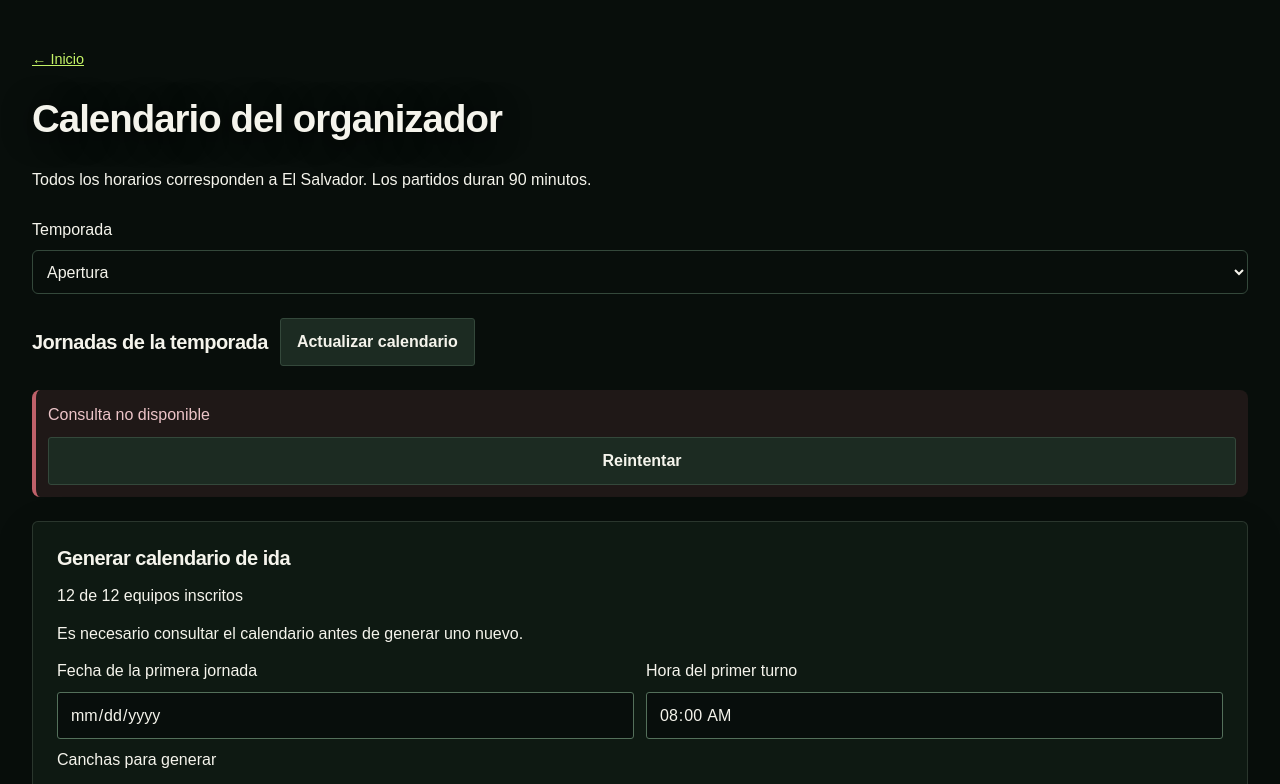
it: FE-3.1 calendario › no permite publicar jornadas vacías y no muestra errores de lectura como vacíos
The width and height of the screenshot is (1280, 784).
Check: the text "Consulta no disponible" is shown, box [48,406,210,423]
What coordinates should you click on to do the following:
click the button "Reintentar"
I would click on:
 (642, 461)
Its box is [48,437,1236,485].
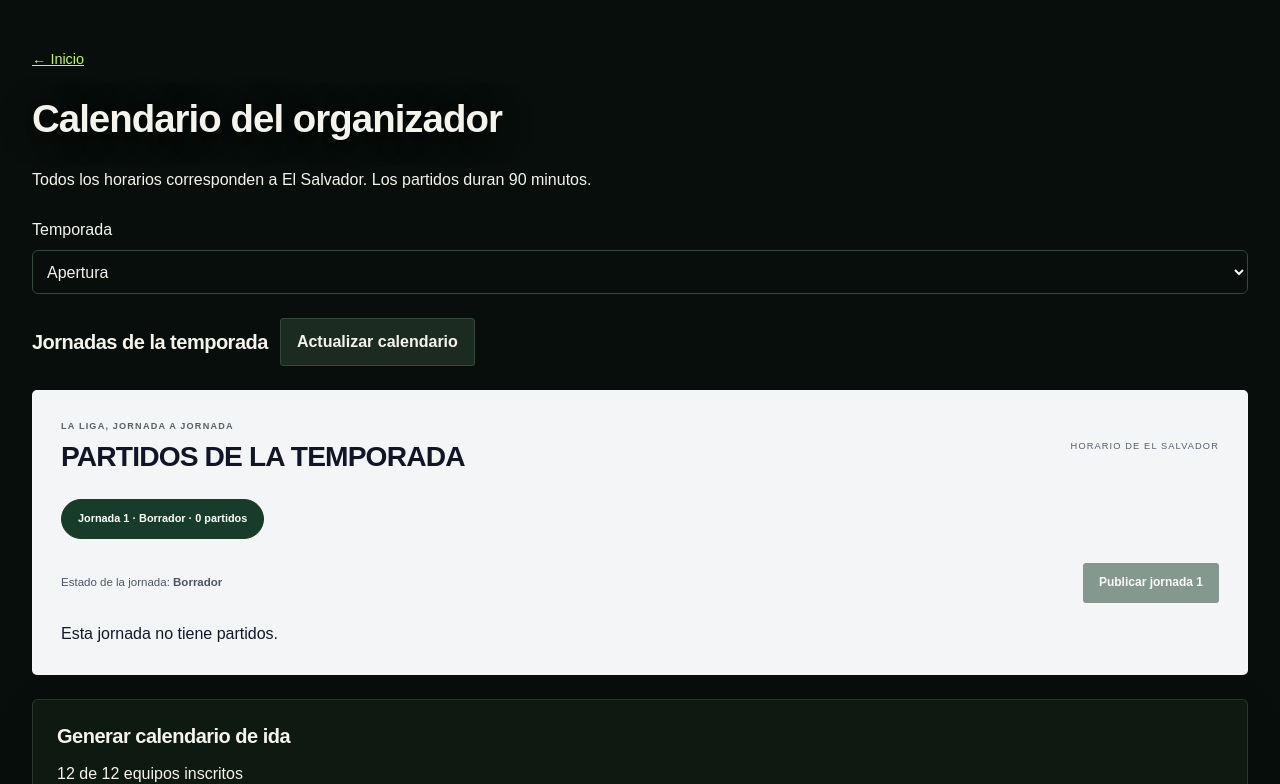
Check: the button "Publicar jornada 1" is disabled, box [1083,563,1219,603]
